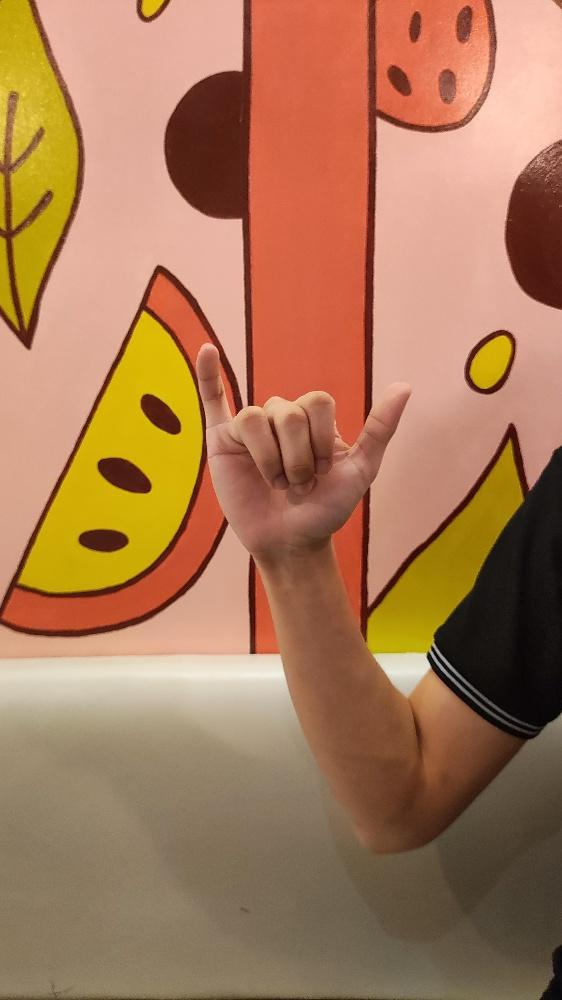y: (194, 340, 412, 555)
